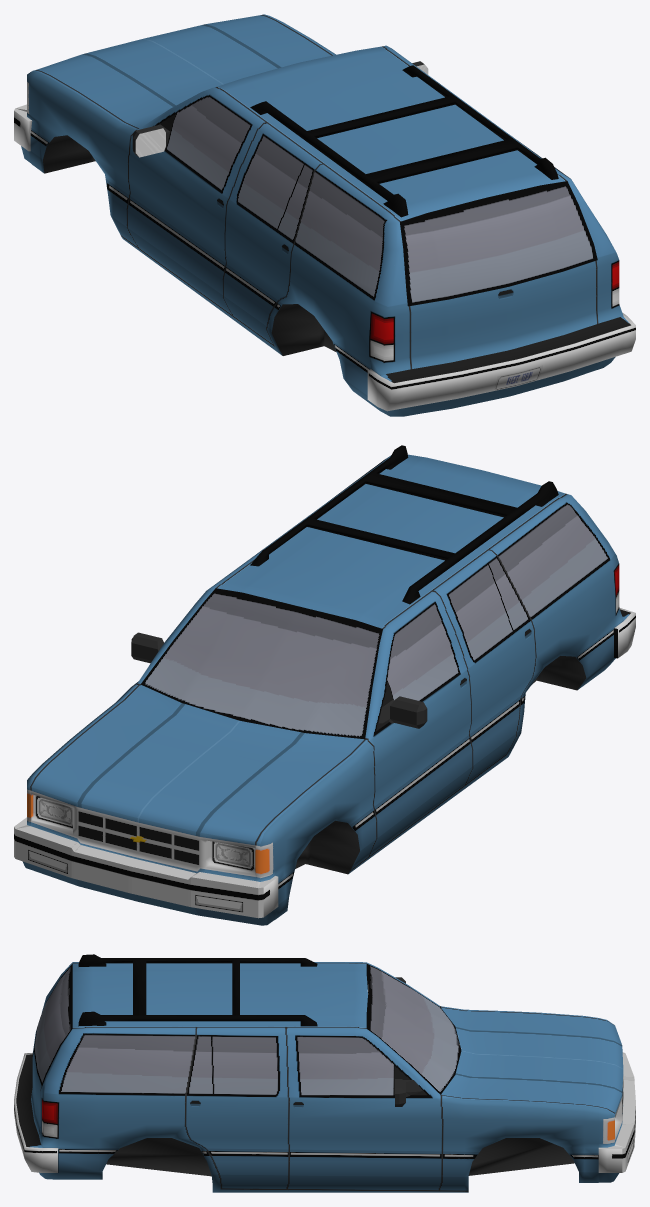
The model's file is 92Jimmy.fbx.
3 renders of one model, top to bottom at view 1: azimuth 30°, elevation 25°; view 2: azimuth 150°, elevation 25°; view 3: azimuth 270°, elevation 25°, orthographic. The views are drawn at different scales.
Visible parts, largest first — view 1: 92gmcjimmy; view 2: 92gmcjimmy; view 3: 92gmcjimmy.
Part boxes in pixels (x1,y1,x2,y2): 92gmcjimmy: (14, 14, 635, 416); 92gmcjimmy: (14, 445, 635, 925); 92gmcjimmy: (14, 954, 635, 1192).
Bounding box in the file's own units: 2.1 × 1.42 × 4.85.
